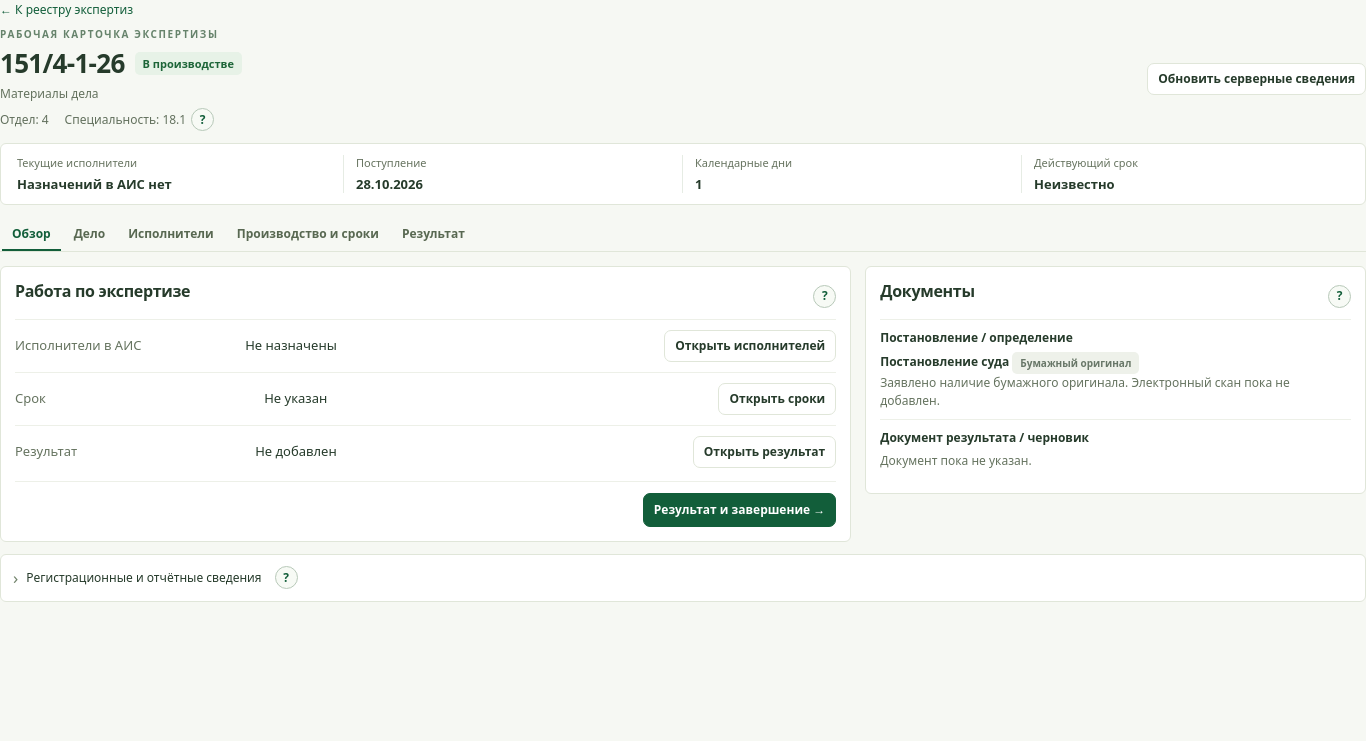
Scenario: keeps an edited real form mounted and unsaved when switching tabs
The image size is (1366, 741).
Click the tab "Дело": (89, 235) [64,219,115,251]
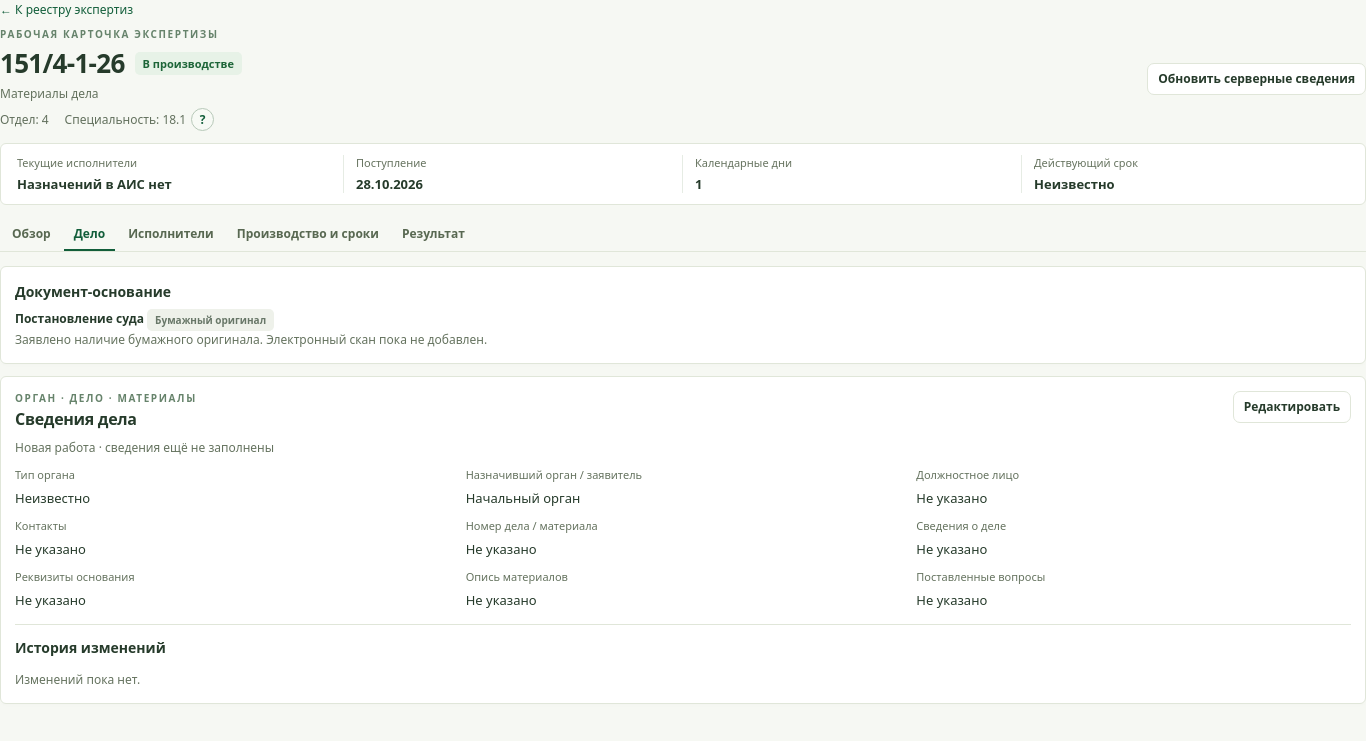
Click the button "Редактировать": (1292, 407) [1233,391,1351,423]
(page scrolled)
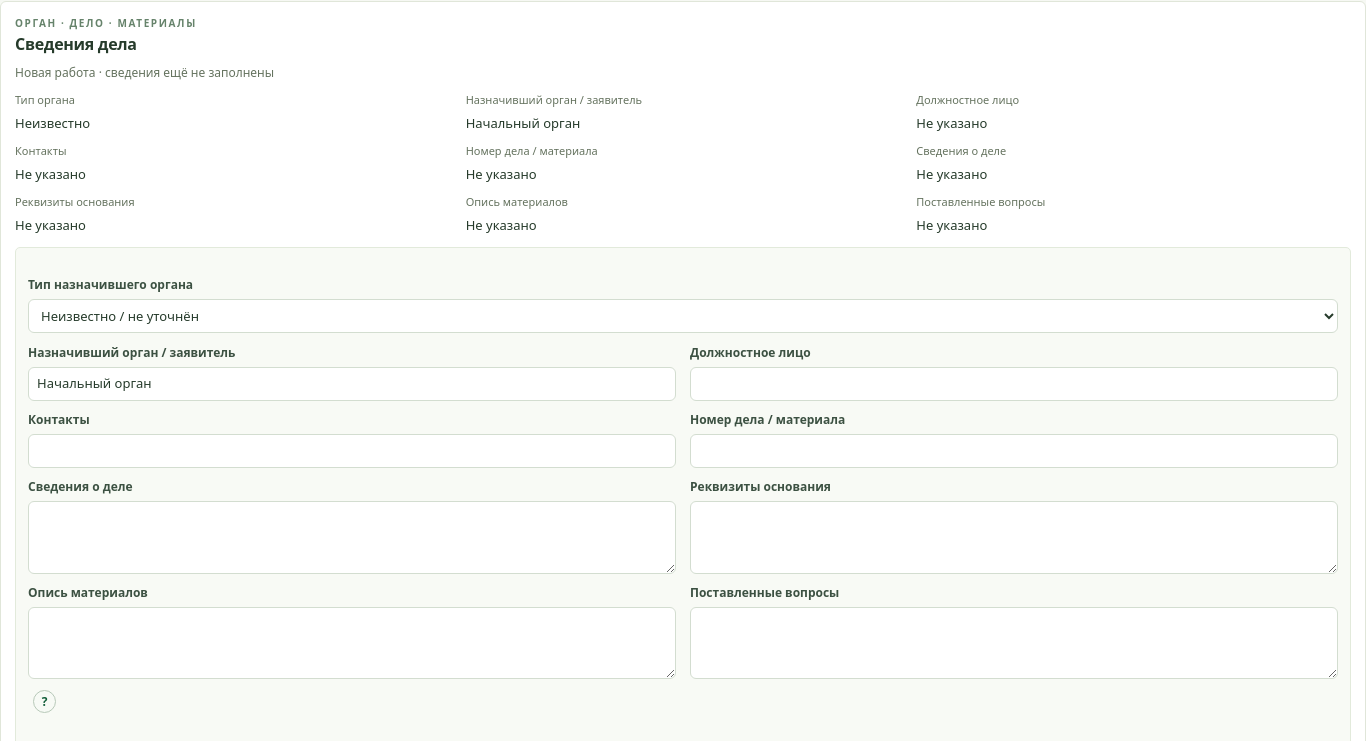
Replace the text in the field named "case_authority_name" with "Несохранённый орган": (352, 384) [28,367,676,401]
(page scrolled)
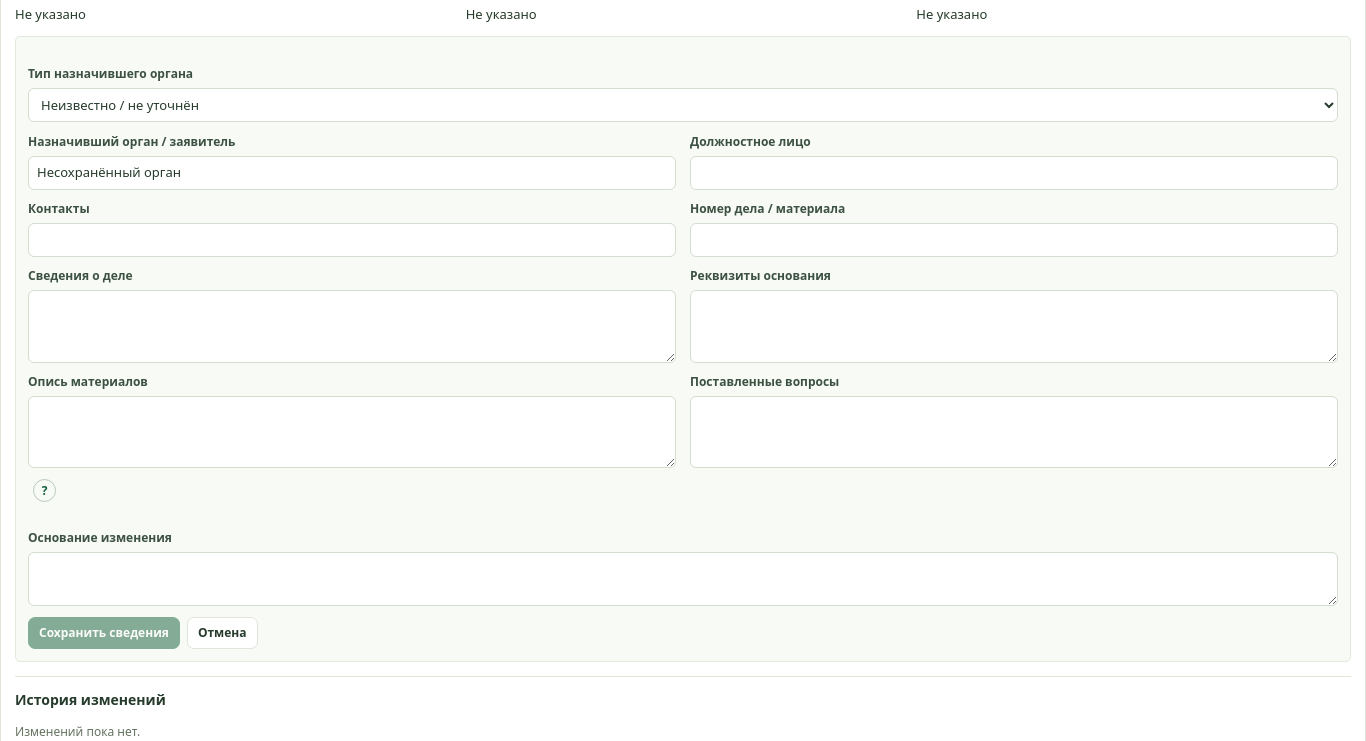
In the text box named "case_reason": (683, 579) [28,552,1338,606], type "Несохранённое основание"
(page scrolled)
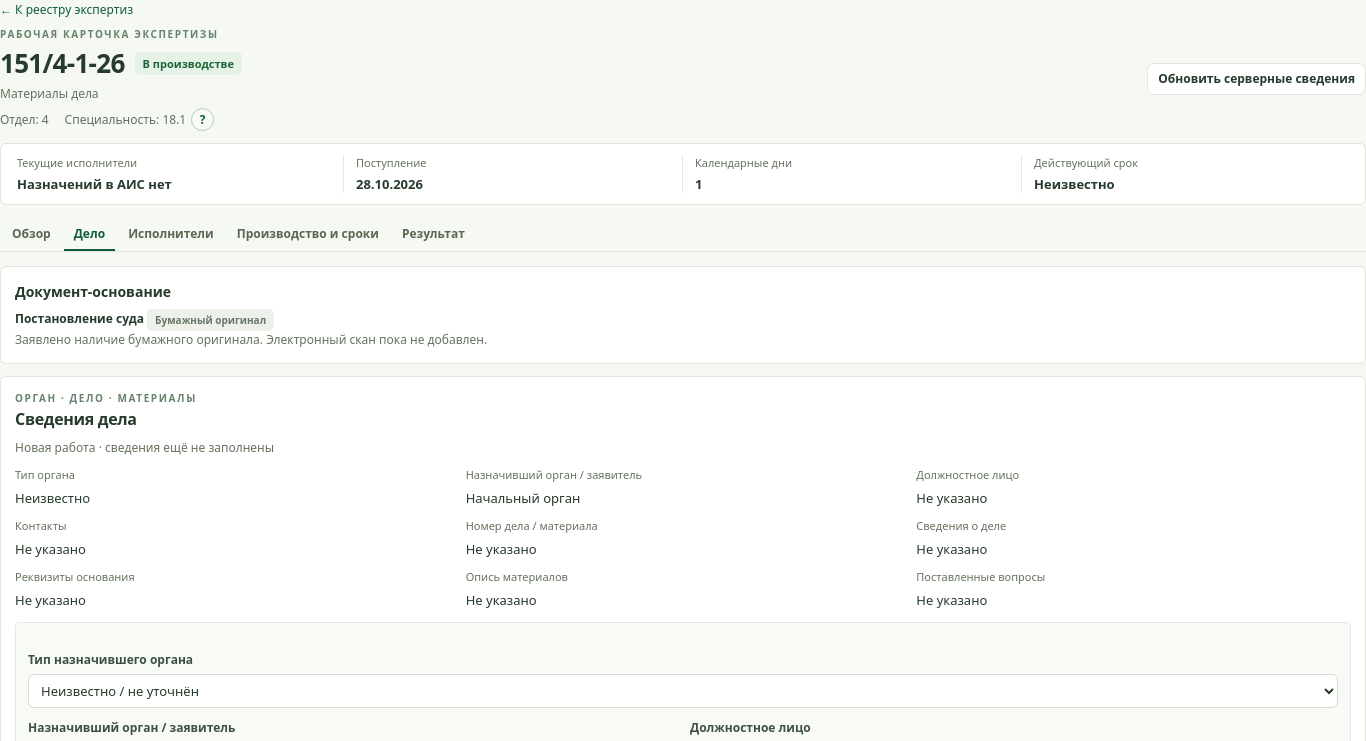
Click the tab "Производство и сроки": (308, 235) [227,219,389,251]
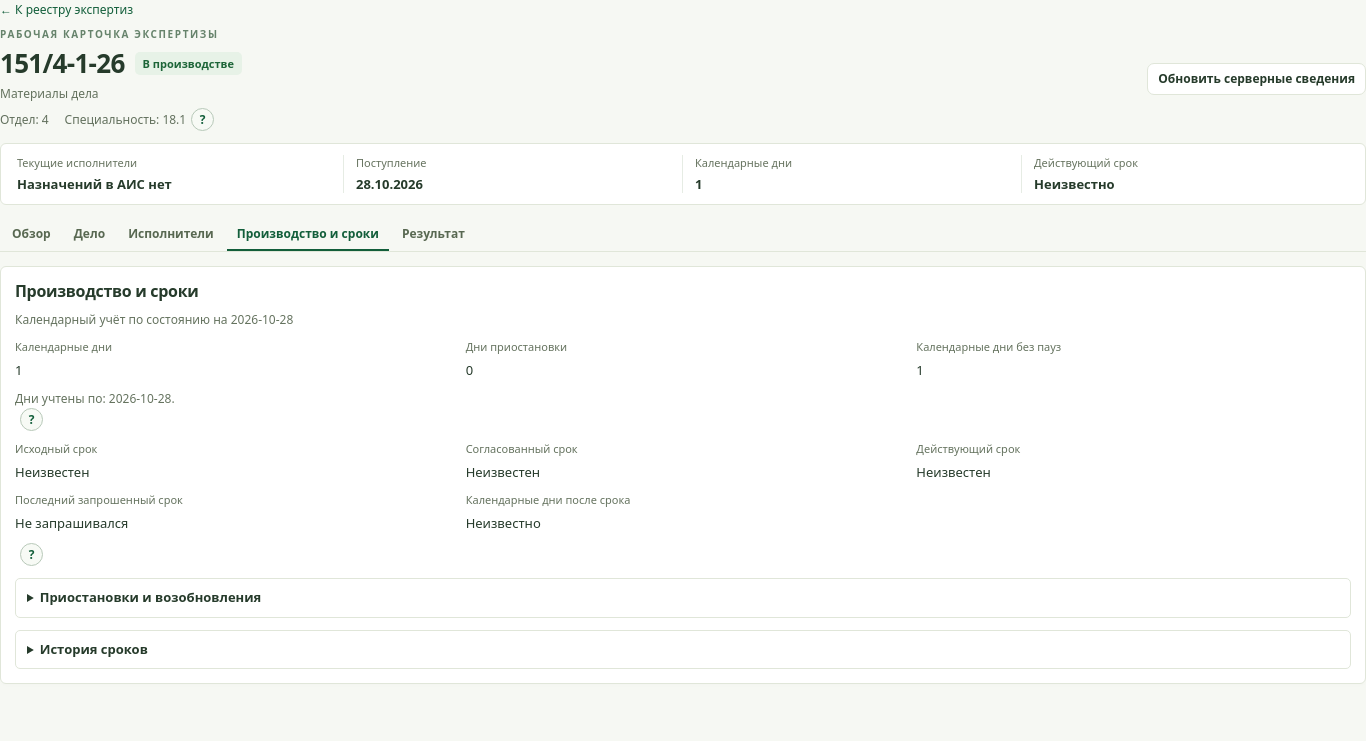
expect the panel is shown: met, box [0,266,1365,684]
Click the tab "Дело": (89, 235) [64,219,115,251]
(page scrolled)
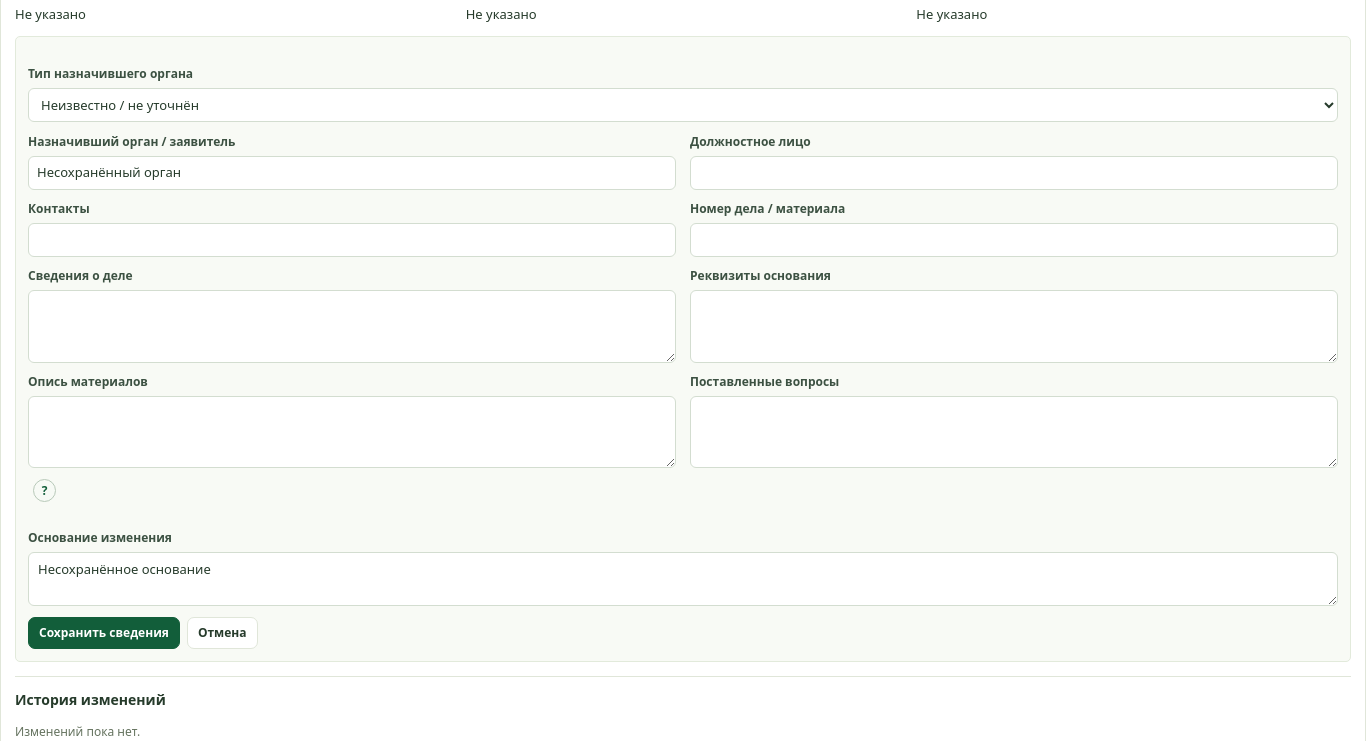
expect the form is shown: met
